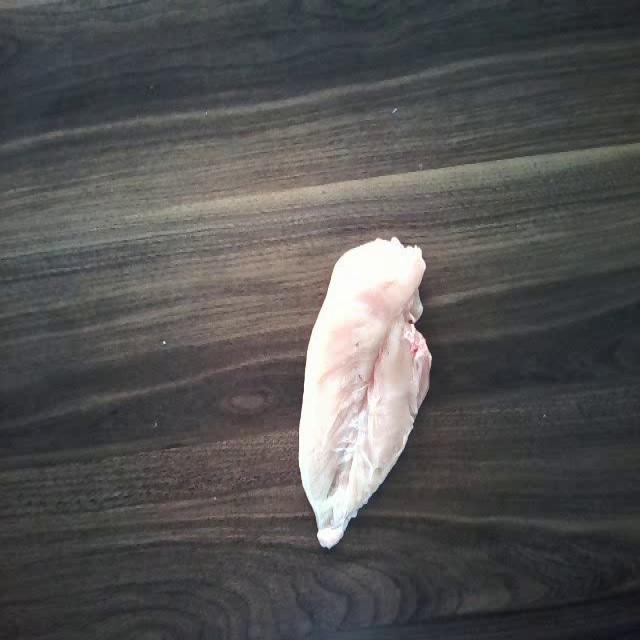breast: (300, 230, 435, 550)
